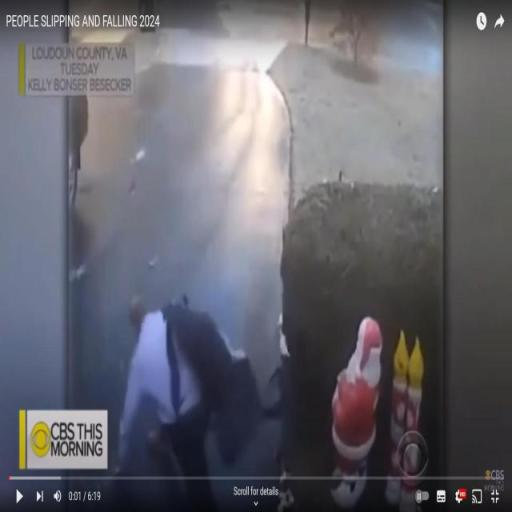Fall: (110, 287, 221, 512)
